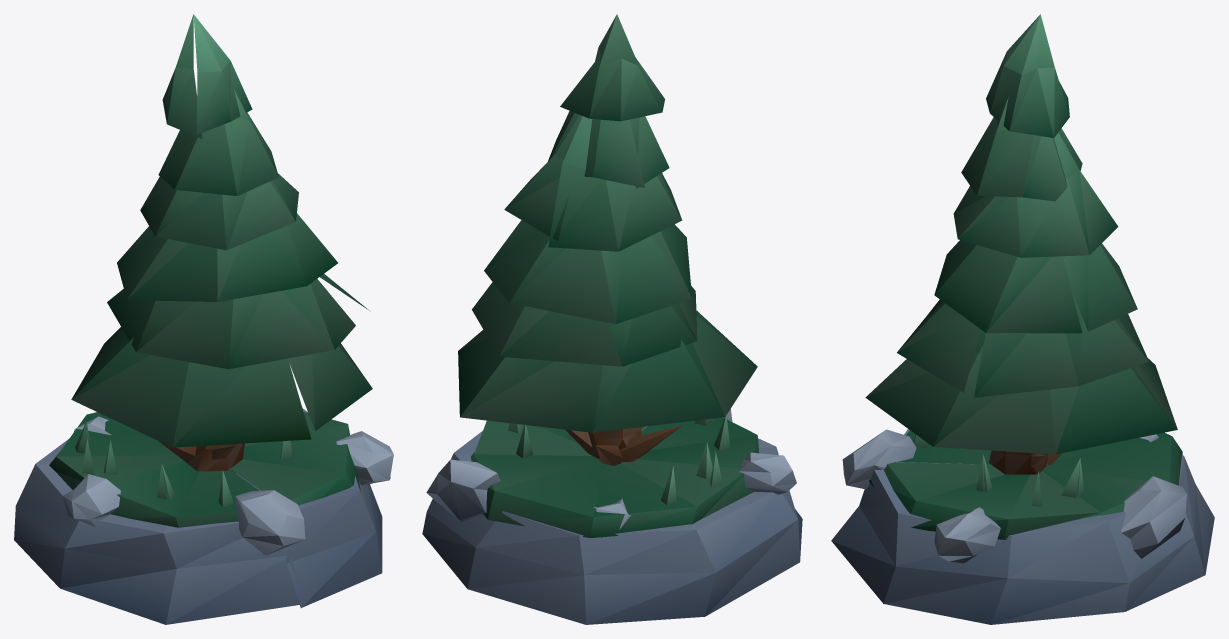
The model's file is pohon_pine_emerald_12345.glb.
3 renders of one model, left to right at view 1: azimuth 30°, elevation 25°; view 2: azimuth 150°, elevation 25°; view 3: azimuth 270°, elevation 25°, orthographic.
Parts seen in each view (by area): view 1: Dedaunan_Pinus, Pulau_Batu_Tepi_Sungai, Batang_Dan_Akar; view 2: Dedaunan_Pinus, Pulau_Batu_Tepi_Sungai, Batang_Dan_Akar; view 3: Dedaunan_Pinus, Pulau_Batu_Tepi_Sungai, Batang_Dan_Akar.
Boxes of the visible parts, bbox=[...] form: Dedaunan_Pinus: bbox=[71, 14, 372, 447]; Pulau_Batu_Tepi_Sungai: bbox=[14, 408, 393, 624]; Batang_Dan_Akar: bbox=[158, 441, 244, 473]; Dedaunan_Pinus: bbox=[458, 14, 757, 432]; Pulau_Batu_Tepi_Sungai: bbox=[422, 409, 802, 624]; Batang_Dan_Akar: bbox=[565, 425, 682, 465]; Dedaunan_Pinus: bbox=[865, 14, 1177, 454]; Pulau_Batu_Tepi_Sungai: bbox=[831, 429, 1214, 624]; Batang_Dan_Akar: bbox=[989, 450, 1062, 474].
Size of the model in its own units: 5.1 by 8.04 by 5.22.
